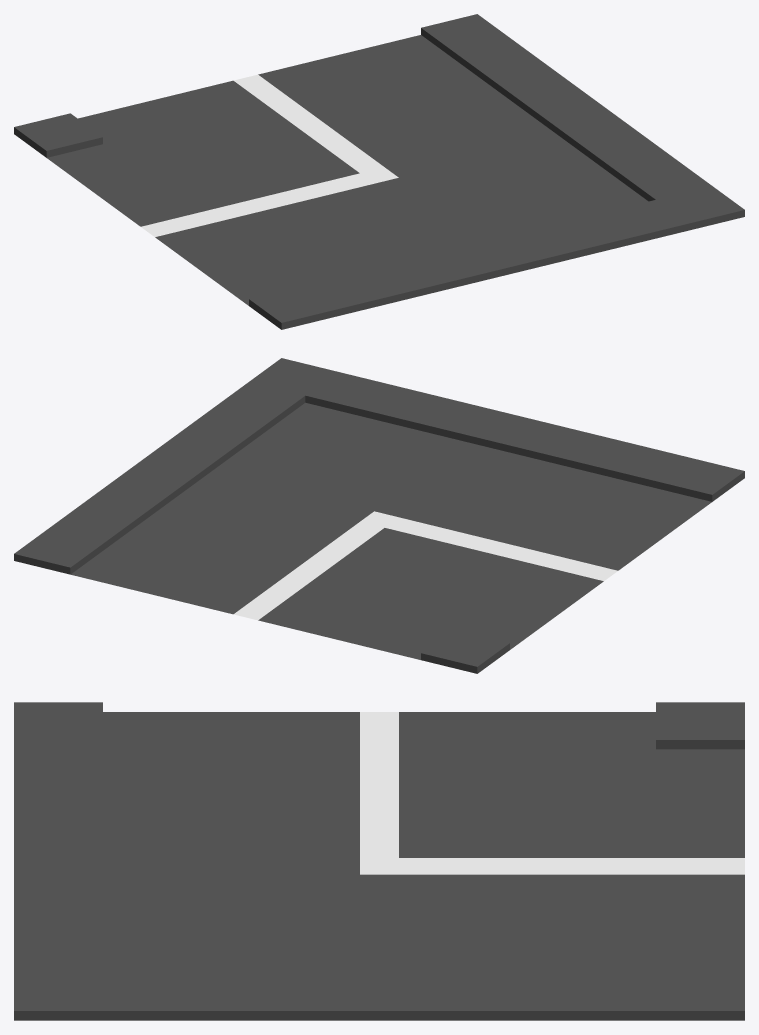
File: ruecriosé.fbx
3 renders of one model, top to bottom at view 1: azimuth 30°, elevation 25°; view 2: azimuth 150°, elevation 25°; view 3: azimuth 270°, elevation 25°, orthographic. The views are drawn at different scales.
Visible parts, largest first — view 1: Plane.002; view 2: Plane.002; view 3: Plane.002.
Boxes of the visible parts, x1,y1,x2,y2 form: Plane.002: (14,14,744,329); Plane.002: (14,358,744,673); Plane.002: (14,702,744,1020).
Bounding box in the file's own units: 3000 × 43.6 × 3000.
